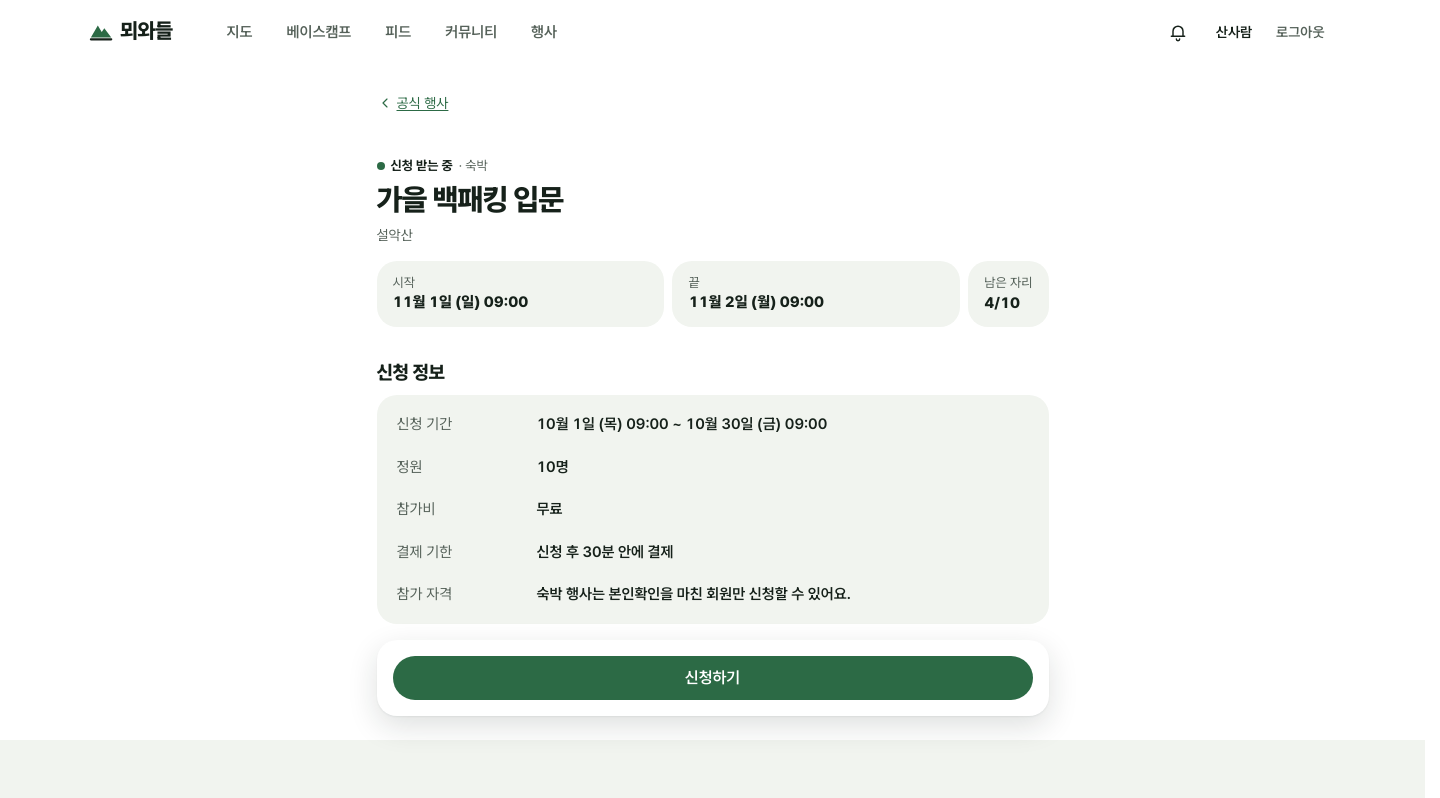
Test case: 빈자리 알림 › 매진 응답 뒤 알림 신청이 PROGRAM_SEATS_AVAILABLE로 거절되면 매진 안내와 알림 버튼을 거두고 신청하기를 남긴다
Click the button "신청하기" at (712, 678), box [392,656,1032,700]
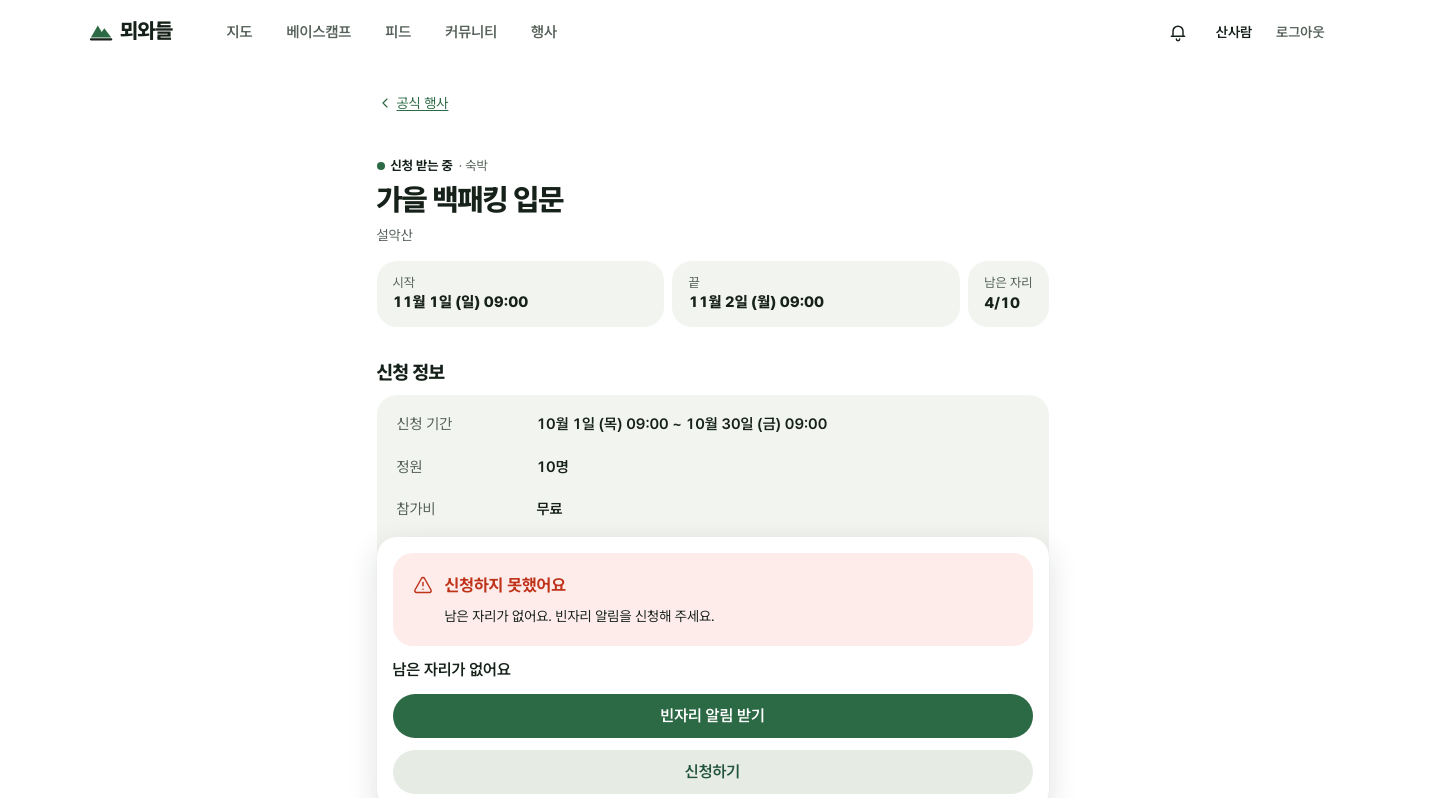
Check: the text "남은 자리가 없어요" is shown, box [444,608,715,624]
Check: the button "빈자리 알림 받기" is shown
Click the button "빈자리 알림 받기" at (712, 716), box [392,694,1032,738]
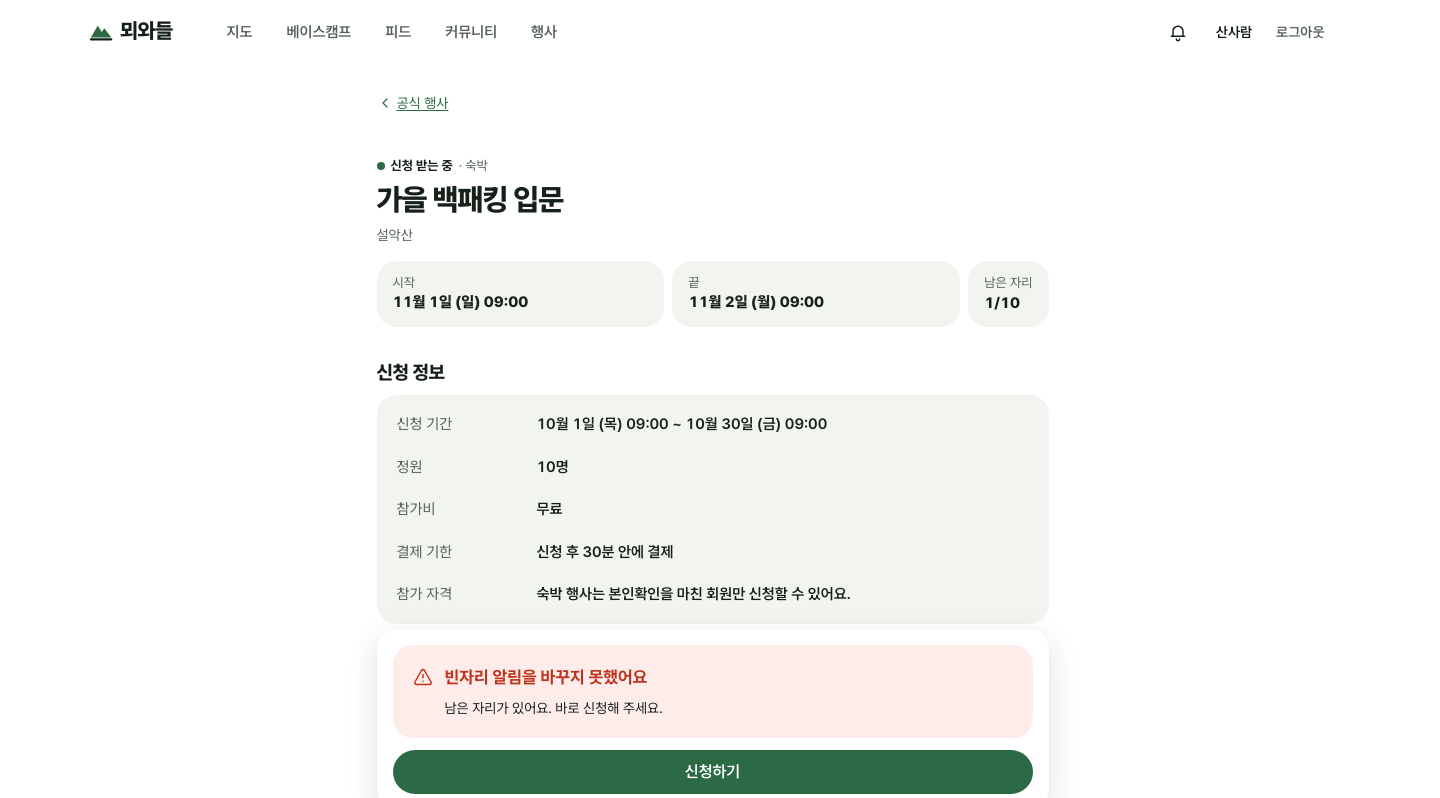
Check: the button "신청하기" is shown, box [392,750,1032,794]
Check: the text "남은 자리가 없어요" is gone
